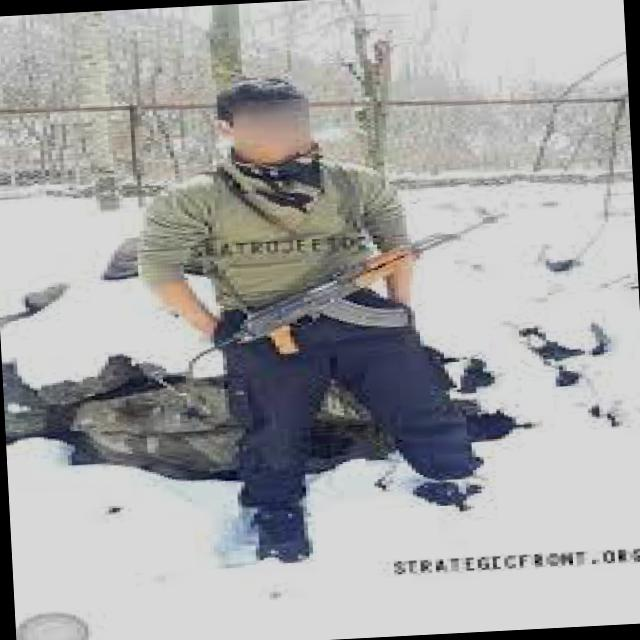long weapon: (85, 192, 557, 421)
